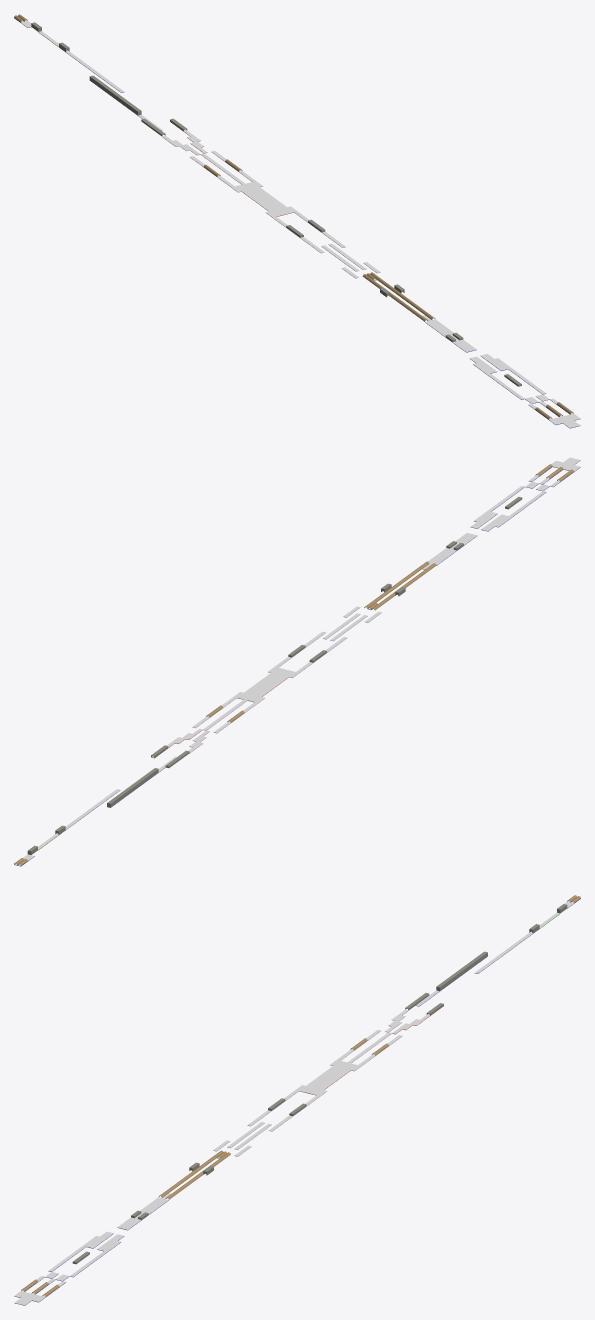
The model's file is Level83.FBX.
The picture shows the model from 3 angles, top to bottom: view 1: azimuth 30°, elevation 25°; view 2: azimuth 150°, elevation 25°; view 3: azimuth 330°, elevation 25°; orthographic projection.
Parts seen in each view (by area): view 1: basePlatform, Obsticles; view 2: basePlatform, Obsticles; view 3: basePlatform, Obsticles.
Boxes of the visible parts, <box> form: basePlatform: <box>21,20,580,427</box>; Obsticles: <box>14,14,573,419</box>; basePlatform: <box>14,457,580,865</box>; Obsticles: <box>14,464,573,865</box>; basePlatform: <box>14,900,573,1305</box>; Obsticles: <box>21,895,580,1296</box>.
Bounding box in the file's own units: 26.28 × 4.14 × 1012.
